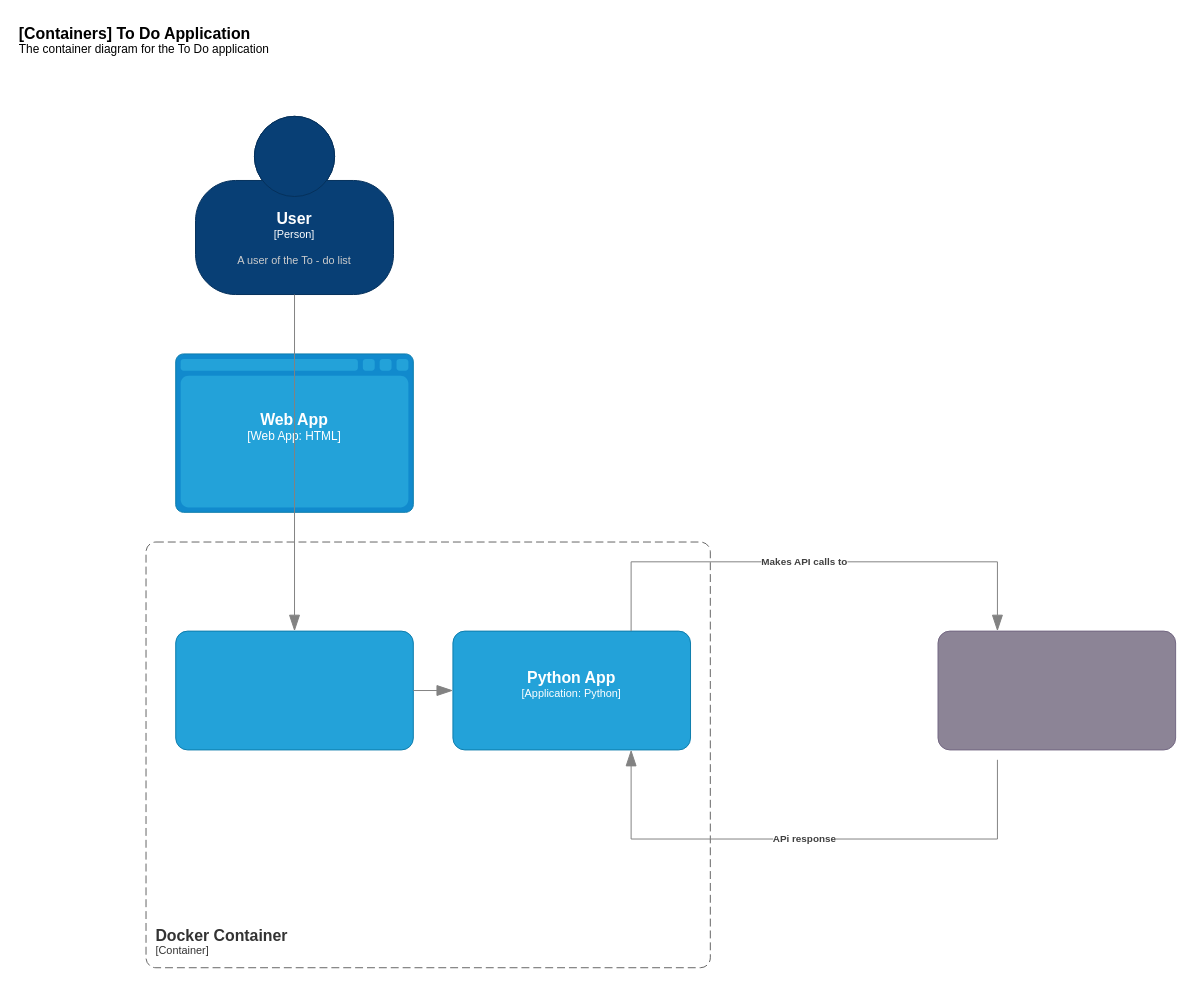
Image size: 1193x985. Some labels were removed from this diagram. Each missing label, with the centre of its shape:
Guincorn [WSGI HTTP Server: Gunicorn]: (x=294, y=690)
Trello [Software System] The Trello board that manages the users tasks: (x=1056, y=690)
